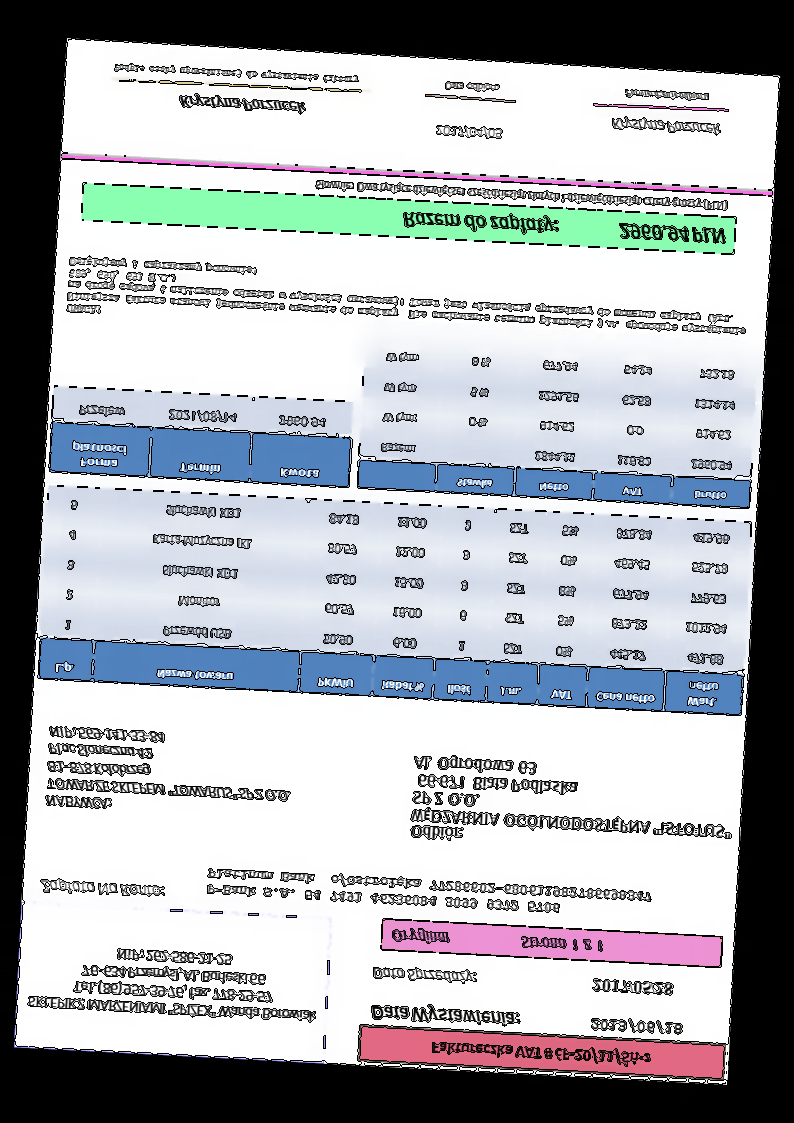Table: (37, 483, 753, 716), (356, 337, 760, 509), (47, 384, 354, 488)
TextBox: (63, 252, 750, 350), (409, 751, 737, 856), (204, 863, 656, 921), (25, 940, 320, 1028), (42, 722, 298, 821), (313, 175, 730, 214), (400, 208, 728, 247), (112, 59, 360, 88), (430, 1038, 654, 1068), (391, 927, 608, 956), (369, 1000, 523, 1030), (177, 90, 309, 116), (37, 875, 168, 901), (609, 113, 723, 139), (371, 963, 478, 986), (589, 1014, 684, 1037), (433, 120, 505, 145), (592, 976, 673, 997), (623, 86, 712, 103), (443, 79, 502, 96)
